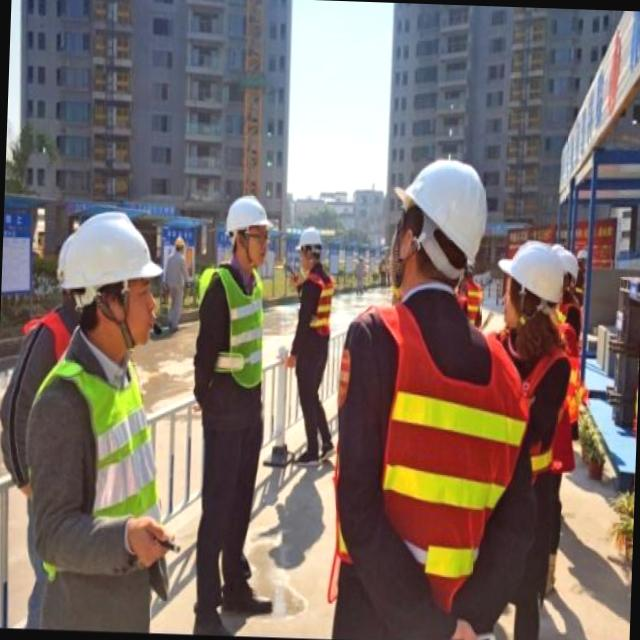helmet: (52, 206, 168, 320), (384, 152, 489, 276), (494, 234, 570, 322), (220, 192, 277, 256), (296, 222, 327, 258)
vest: (366, 305, 526, 627), (49, 356, 160, 554), (212, 268, 267, 391), (298, 266, 334, 338)
